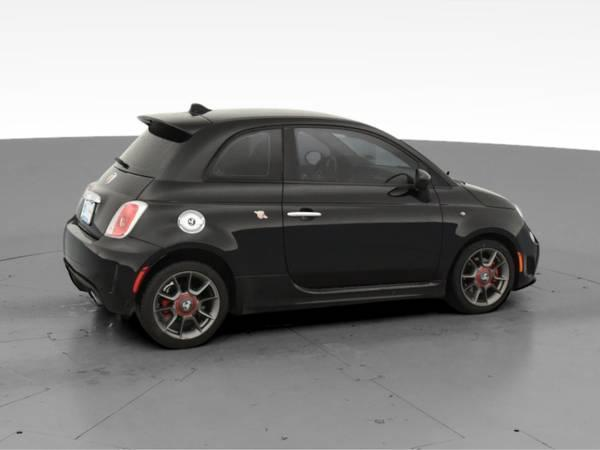Front_Bumper: (516, 226, 541, 290)
Front_Fender: (436, 184, 527, 292)
Front_Right_Door: (284, 182, 444, 308)
Front_Right_Window: (284, 124, 436, 188)
Hood: (456, 179, 512, 207)
Rear_Bumper: (58, 214, 163, 311)
Rear_Fender: (131, 125, 291, 308)
Rear_Windshield: (111, 122, 190, 176)
Right_Taillight: (104, 201, 147, 239)
Roof: (135, 106, 452, 182)
Tailgate: (73, 164, 152, 237)
Wheel: (141, 258, 231, 343), (454, 236, 520, 308)
